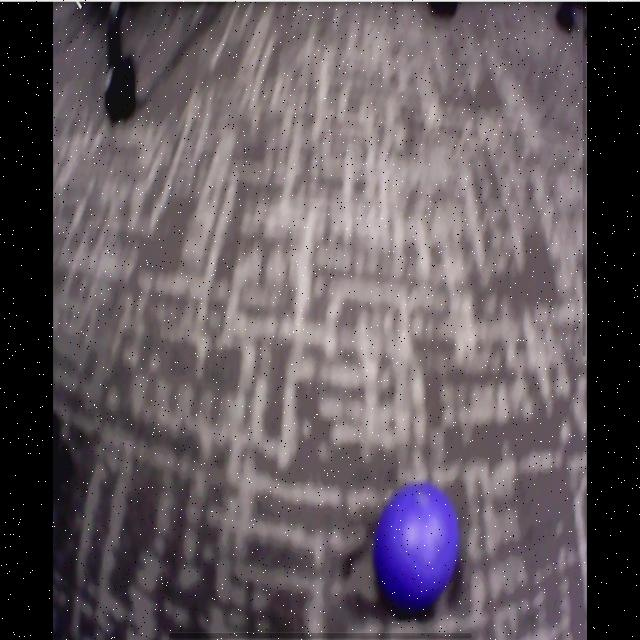ball: (376, 485, 458, 605)
